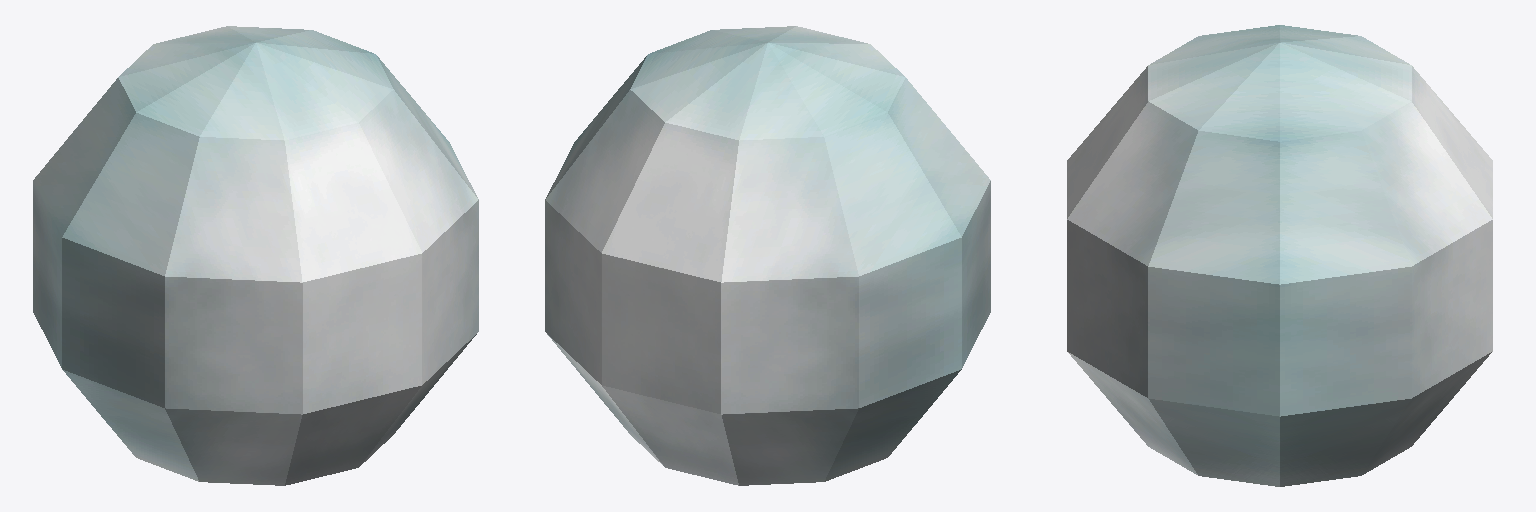
The picture shows the model from 3 angles: view 1: azimuth 30°, elevation 25°; view 2: azimuth 150°, elevation 25°; view 3: azimuth 270°, elevation 25°; orthographic projection.
Visible parts, largest first — view 1: greatpearl_01; view 2: greatpearl_01; view 3: greatpearl_01.
Part boxes in pixels (x1,y1,x2,y2): greatpearl_01: (33,26,478,485); greatpearl_01: (545,26,990,485); greatpearl_01: (1067,25,1492,486).
Size of the model in its own units: 1.17 by 1.23 by 1.11.
1 materials, 1 textured.